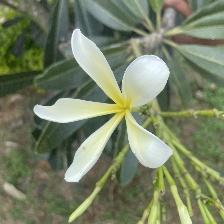champaka: (33, 28, 180, 185)
